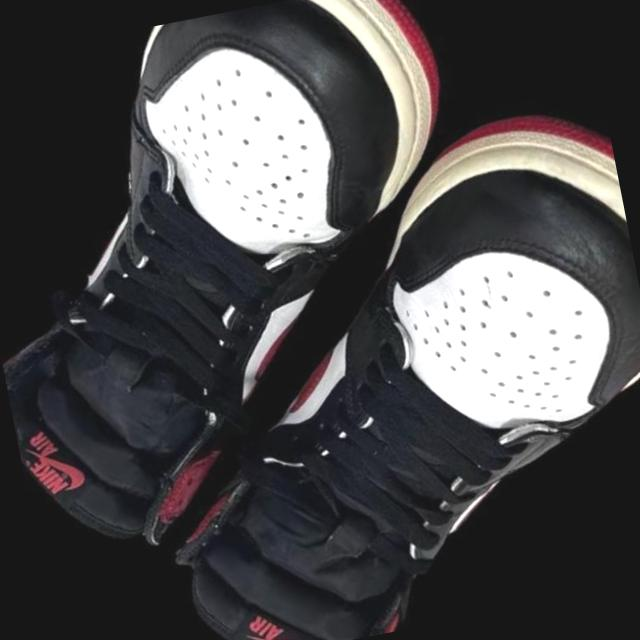nike_original_jordan: (53, 33, 640, 640), (0, 0, 579, 582)
